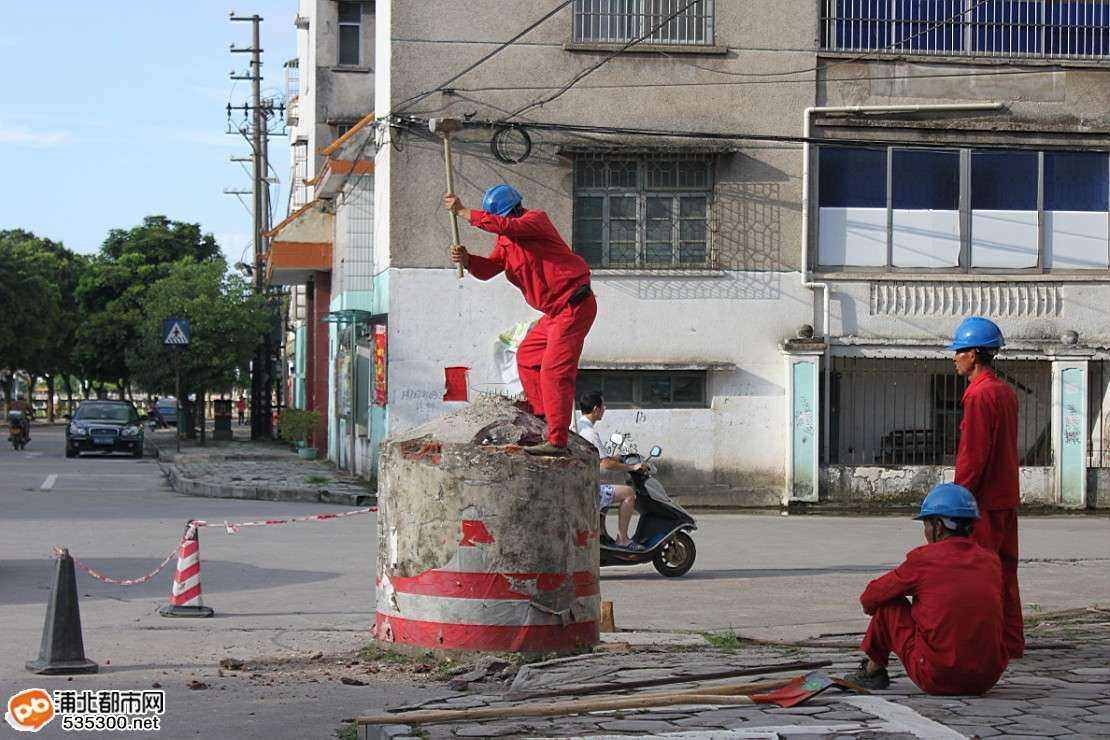blue: (917, 482, 978, 551), (944, 317, 1003, 381), (481, 181, 525, 228)
